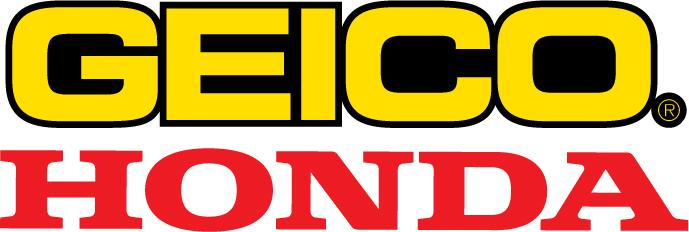Geico: (7, 2, 687, 136)
